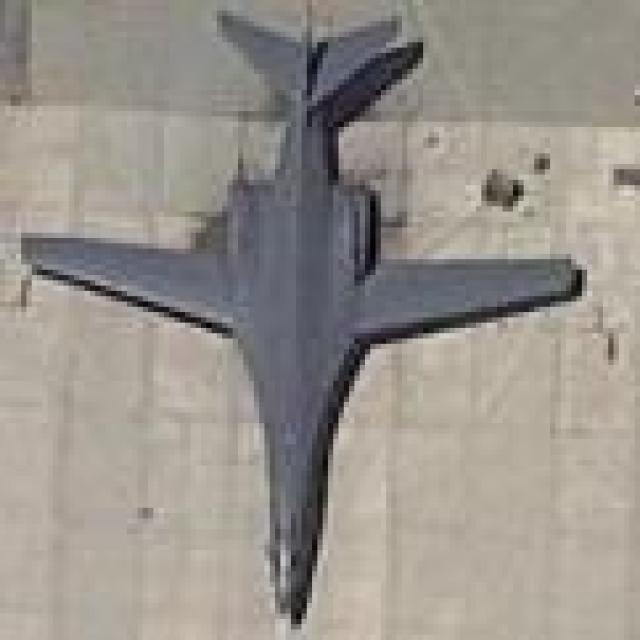B-1_TopDown: (16, 0, 587, 629)
